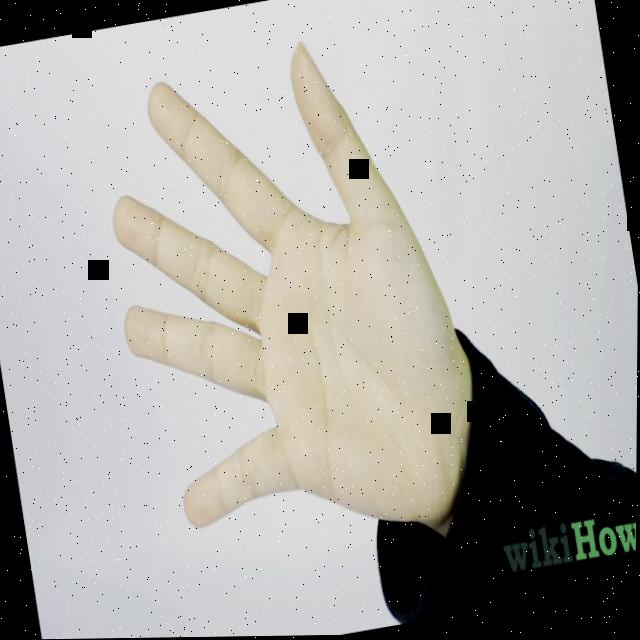Paper: (77, 15, 489, 576)
